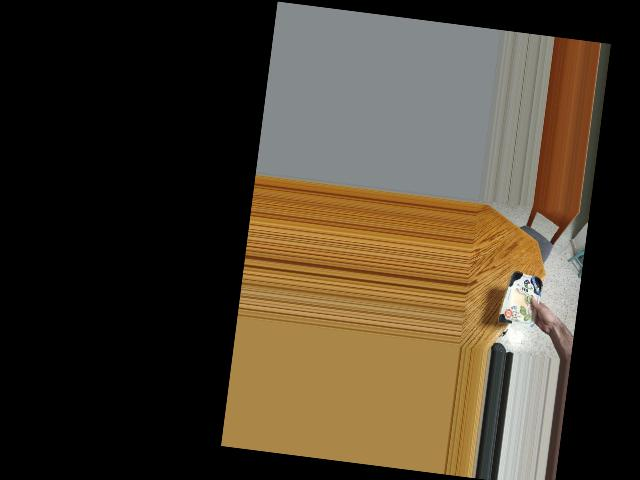cheese: (498, 270, 549, 329)
